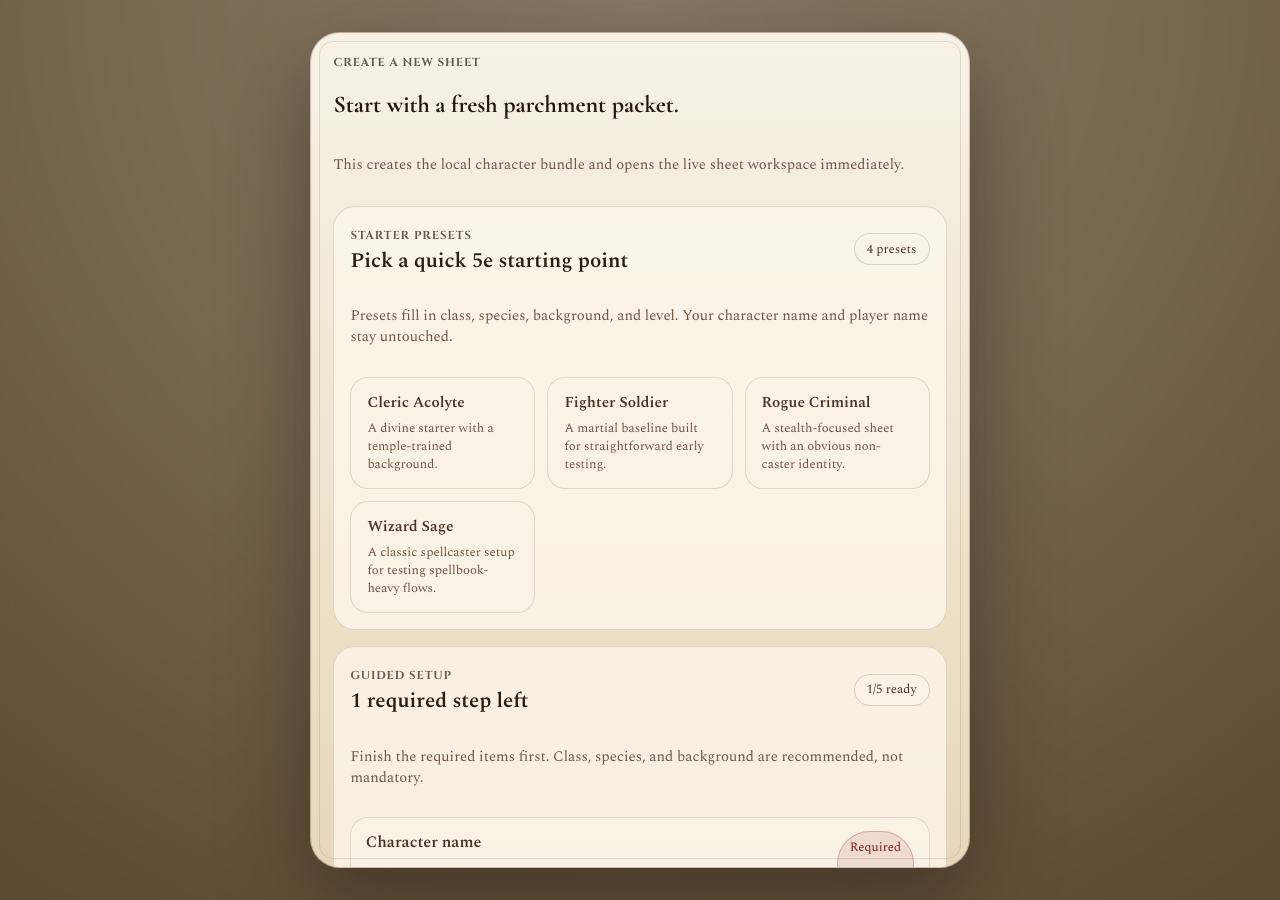
CreateCharacterDialog › applies a starter preset to the class, species, and background fields
What coordinates should you click on to do the following:
click the button "Wizard Sage"
I would click on:
 (443, 557)
Its box is left=350, top=501, right=536, bottom=613.
(page scrolled)
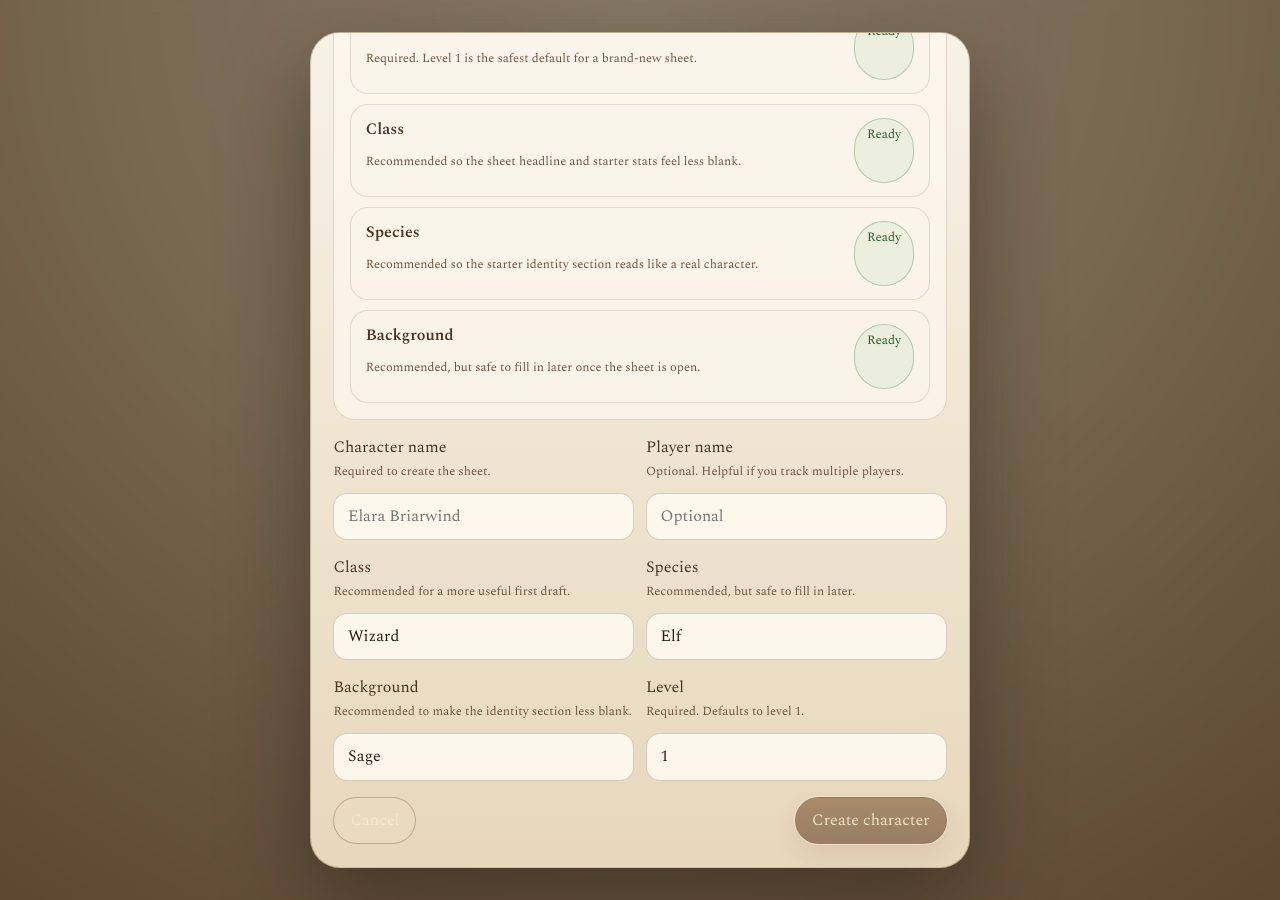
Expected: the field labelled "Class Recommended for a more useful first draft." holds "Wizard", left=333, top=613, right=634, bottom=660
Expected: the field labelled "Species Recommended, but safe to fill in later." holds "Elf", left=646, top=613, right=947, bottom=660
Expected: the field labelled "Background" holds "Sage", left=333, top=733, right=634, bottom=781
